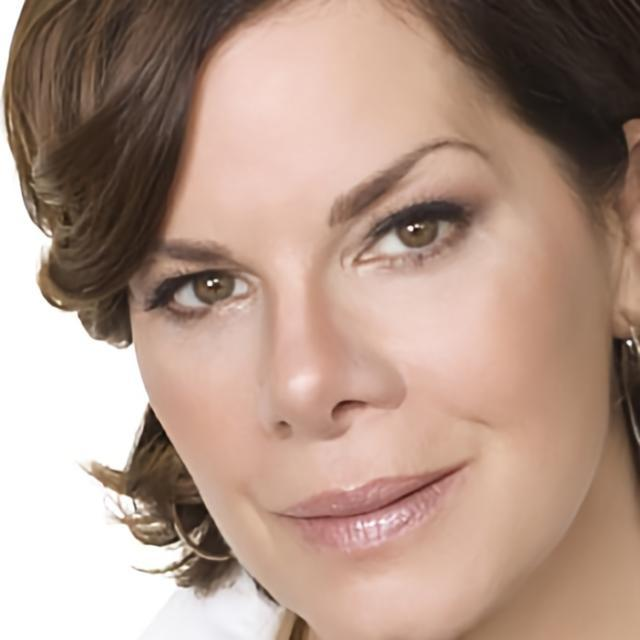content: (124, 0, 606, 640)
